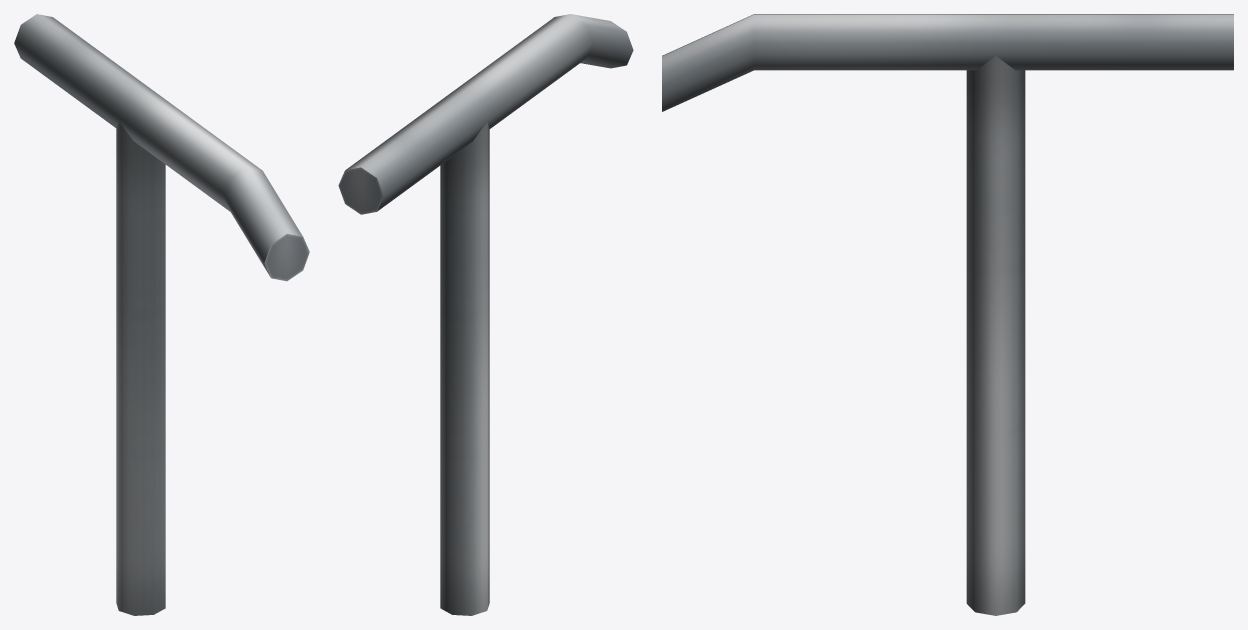
Rendered from set_handrail_stairs_start.fbx.
The picture shows the model from 3 angles, left to right: view 1: azimuth 30°, elevation 25°; view 2: azimuth 150°, elevation 25°; view 3: azimuth 270°, elevation 25°; orthographic projection. The views are drawn at different scales.
Parts seen in each view (by area): view 1: set_handrail_stairs_start; view 2: set_handrail_stairs_start; view 3: set_handrail_stairs_start.
Part boxes in pixels (x1,y1,x2,y2): set_handrail_stairs_start: [14, 14, 309, 615]; set_handrail_stairs_start: [338, 14, 633, 615]; set_handrail_stairs_start: [662, 14, 1233, 615].
Bounding box in the file's own units: 6.29 × 68.15 × 60.
